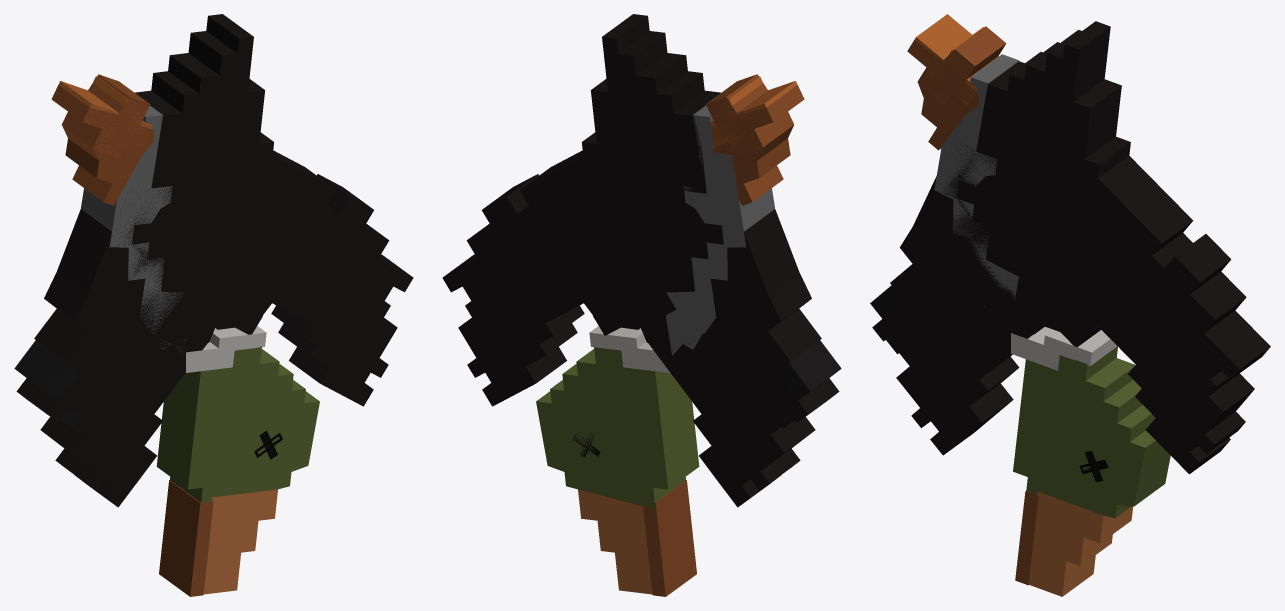
The model's file is HuntDuck.obj.
The picture shows the model from 3 angles, left to right: view 1: azimuth 30°, elevation 25°; view 2: azimuth 150°, elevation 25°; view 3: azimuth 330°, elevation 25°; orthographic projection.
Visible parts, largest first — view 1: 005_Path, 009_Path, 001_Path, 002_Path, 004_Path, 016_Path, 000_Path, 003_Path, 014_Path, 015_Path, 008_Path, 006_Path (+1 smaller); view 2: 001_Path, 005_Path, 009_Path, 002_Path, 000_Path, 004_Path, 003_Path, 016_Path, 015_Path, 014_Path, 006_Path, 008_Path (+1 smaller); view 3: 005_Path, 001_Path, 009_Path, 002_Path, 004_Path, 000_Path, 014_Path, 003_Path, 016_Path, 008_Path, 017_Path, 015_Path (+1 smaller).
Boxes of the visible parts, left/top/right/bottom form: 005_Path: left=16, top=153, right=297, bottom=475; 009_Path: left=156, top=346, right=319, bottom=502; 001_Path: left=192, top=142, right=413, bottom=383; 002_Path: left=135, top=14, right=273, bottom=188; 004_Path: left=40, top=246, right=282, bottom=507; 016_Path: left=51, top=74, right=154, bottom=205; 000_Path: left=235, top=264, right=397, bottom=406; 003_Path: left=81, top=105, right=186, bottom=351; 014_Path: left=203, top=489, right=277, bottom=594; 015_Path: left=159, top=480, right=213, bottom=596; 008_Path: left=185, top=326, right=266, bottom=372; 006_Path: left=14, top=340, right=79, bottom=400; 001_Path: left=442, top=142, right=669, bottom=383; 005_Path: left=641, top=187, right=839, bottom=472; 009_Path: left=536, top=347, right=699, bottom=509; 002_Path: left=581, top=14, right=720, bottom=193; 000_Path: left=458, top=227, right=676, bottom=406; 004_Path: left=582, top=252, right=815, bottom=507; 003_Path: left=665, top=105, right=774, bottom=355; 016_Path: left=706, top=74, right=804, bottom=205; 015_Path: left=643, top=480, right=696, bottom=596; 014_Path: left=578, top=489, right=652, bottom=594; 006_Path: left=776, top=340, right=841, bottom=400; 008_Path: left=589, top=326, right=670, bottom=372; 005_Path: left=872, top=141, right=1122, bottom=426; 001_Path: left=1017, top=141, right=1270, bottom=441; 009_Path: left=1013, top=346, right=1170, bottom=518; 002_Path: left=976, top=21, right=1130, bottom=199; 004_Path: left=896, top=241, right=1108, bottom=455; 000_Path: left=1060, top=290, right=1254, bottom=474; 014_Path: left=1028, top=492, right=1132, bottom=596; 003_Path: left=934, top=54, right=1019, bottom=306; 016_Path: left=907, top=26, right=1006, bottom=150; 008_Path: left=1011, top=327, right=1117, bottom=370; 017_Path: left=908, top=14, right=998, bottom=105; 015_Path: left=1015, top=491, right=1038, bottom=585.
Bounding box in the file's own units: 20.93 × 29.95 × 3.08.
